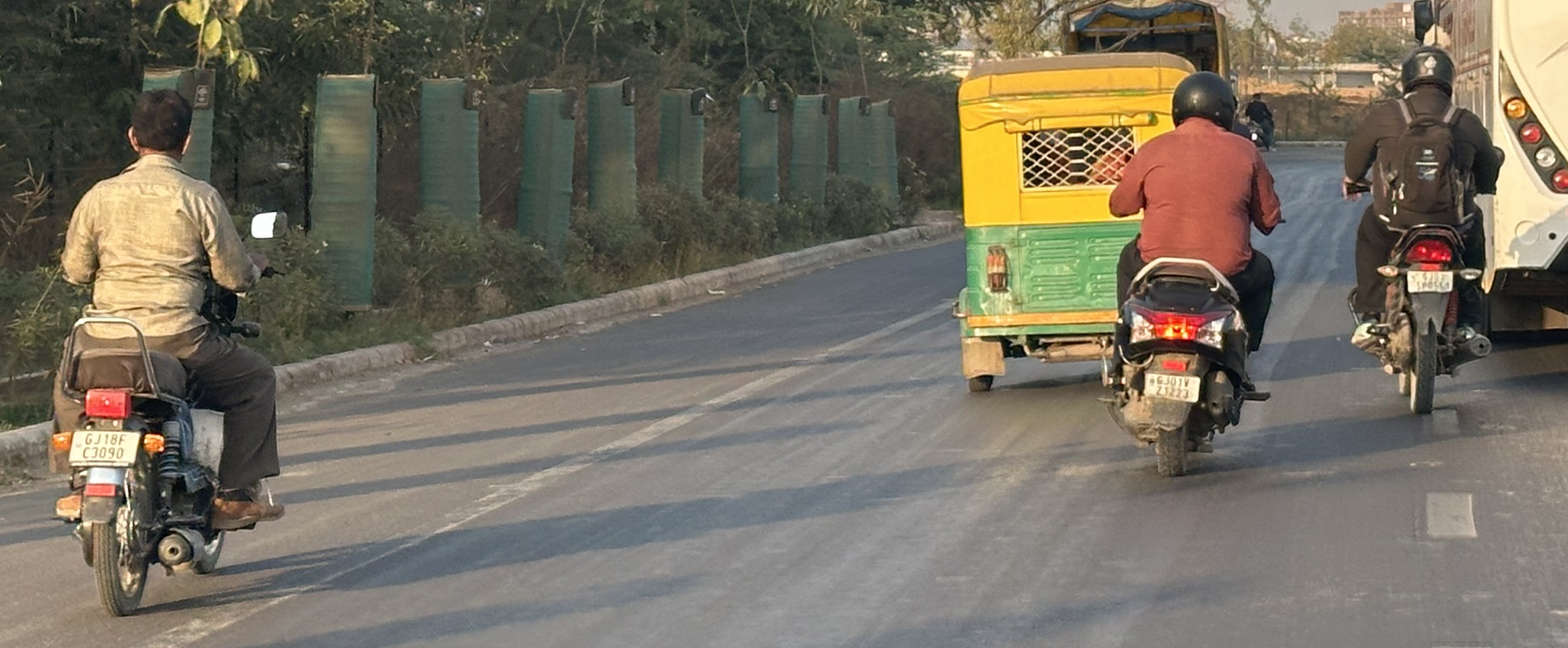BikeWithRider: (44, 75, 293, 624), (1088, 65, 1281, 486), (1340, 31, 1511, 421), (1244, 86, 1277, 148)
Helmet: (1168, 65, 1240, 131), (1397, 43, 1459, 99)
NoHelmet: (112, 81, 198, 162)
